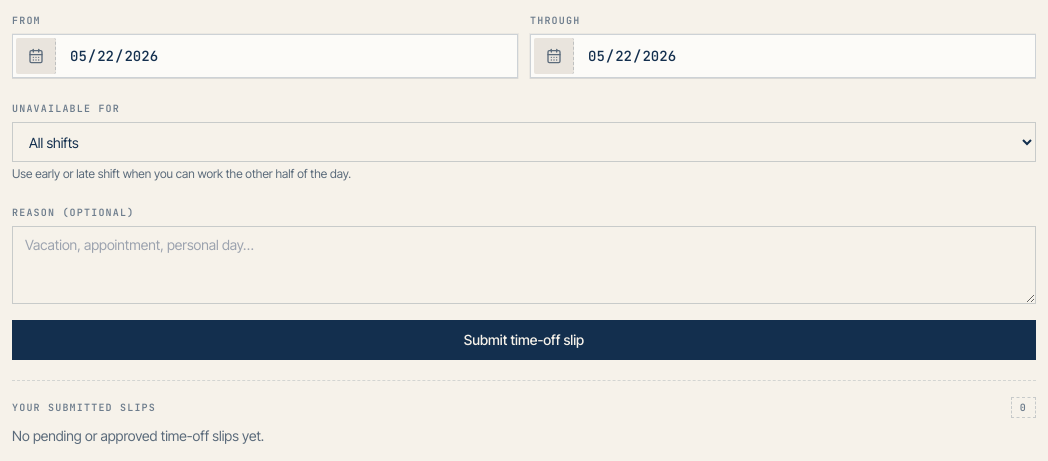
TimeOffRequestForm › prevents a through date before the from date when typed directly
The image size is (1048, 461).
Type "2026-05-31" into the date field labelled "From" at x=265, y=56, box [12,34,518,78]
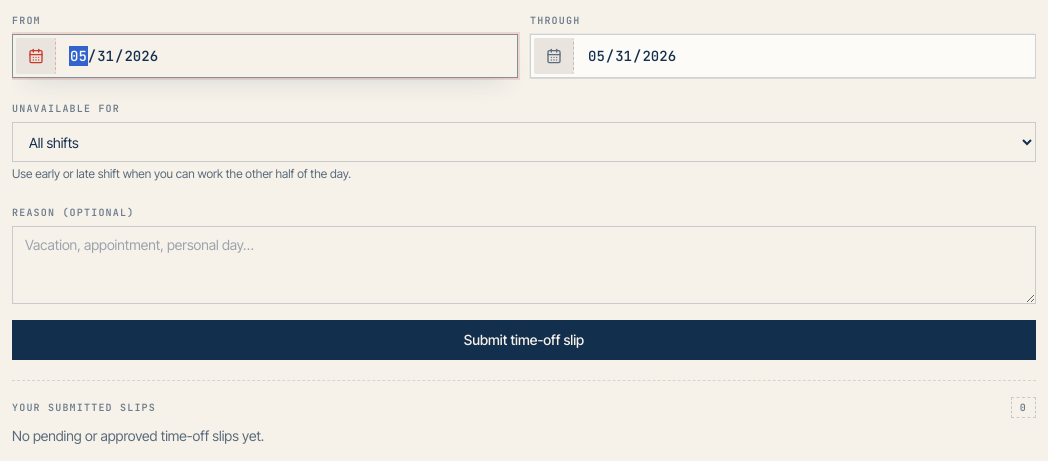
Type "2026-05-30" into the date field labelled "Through" at x=783, y=56, box [530,34,1036,78]
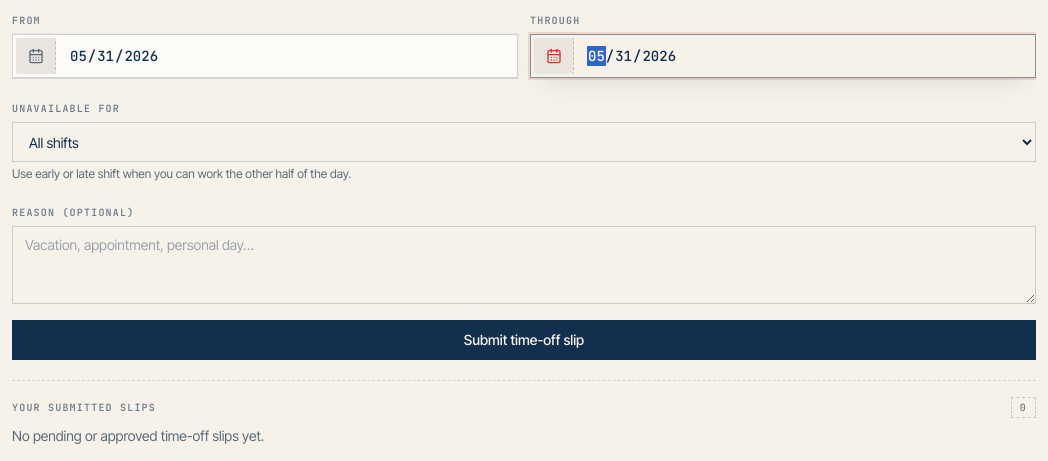
Now the date field labelled "Through" holds "2026-05-31", box [530,34,1036,78]
